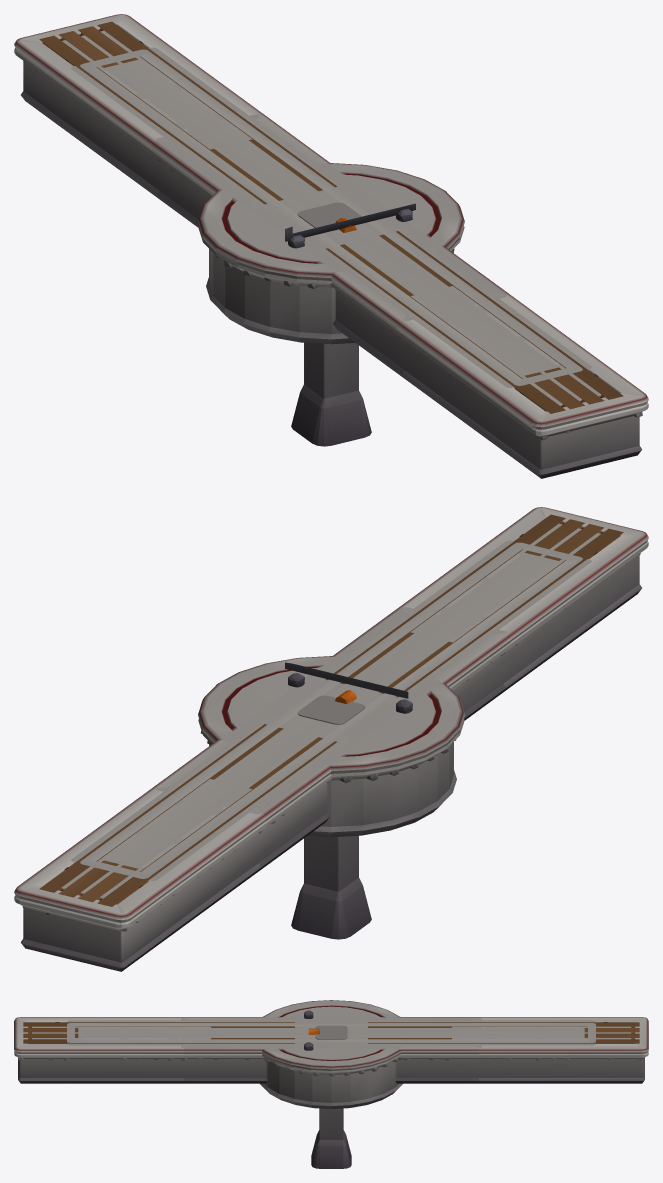
Rendered from fortress-3-DH75MOwq.glb.
3 renders of one model, top to bottom at view 1: azimuth 30°, elevation 25°; view 2: azimuth 150°, elevation 25°; view 3: azimuth 270°, elevation 25°, orthographic. The views are drawn at different scales.
Parts seen in each view (by area): view 1: block_6x2x47.400000000000006#0, block_4x2x40_grate#0, disc_12x1.5#1, block_4x2x46_plank#0, support_0_square#0, block_6x2x23#0, block_5x2x40#0, block_5x2x25#0, block_6x2x11#0, block_6x2x6#0, mount_10_wheel#0, beam_2.5x1.5x18_plank#0; view 2: block_6x2x47.400000000000006#0, block_4x2x40_grate#0, disc_12x1.5#1, block_4x2x46_plank#0, support_0_square#0, block_6x2x23#0, block_5x2x40#0, block_5x2x25#0, block_6x2x6#0, block_6x2x11#0, mount_10_wheel#0, beam_2.5x1.5x18_plank#0; view 3: block_6x2x47.400000000000006#0, disc_12x1.5#1, block_4x2x40_grate#0, block_6x2x23#0, block_4x2x46_plank#0, support_0_square#0, block_5x2x40#0, block_5x2x25#0, block_6x2x11#0, beam_2.5x1.5x18_plank#0, block_6x2x6#0, block_5x2x6#1 (+1 smaller).
Part boxes in pixels (<box>): block_6x2x47.400000000000006#0: <box>14,14,648,478</box>; block_4x2x40_grate#0: <box>80,49,582,385</box>; disc_12x1.5#1: <box>198,163,464,344</box>; block_4x2x46_plank#0: <box>39,21,623,413</box>; support_0_square#0: <box>291,202,371,446</box>; block_6x2x23#0: <box>151,114,509,378</box>; block_5x2x40#0: <box>71,47,591,388</box>; block_5x2x25#0: <box>154,108,508,326</box>; block_6x2x11#0: <box>223,163,439,329</box>; block_6x2x6#0: <box>250,183,412,251</box>; mount_10_wheel#0: <box>285,203,415,248</box>; beam_2.5x1.5x18_plank#0: <box>210,139,452,295</box>; block_6x2x47.400000000000006#0: <box>14,507,648,971</box>; block_4x2x40_grate#0: <box>80,542,582,878</box>; disc_12x1.5#1: <box>198,656,464,837</box>; block_4x2x46_plank#0: <box>39,514,623,906</box>; support_0_square#0: <box>291,695,371,939</box>; block_6x2x23#0: <box>153,607,511,871</box>; block_5x2x40#0: <box>71,540,591,881</box>; block_5x2x25#0: <box>154,601,508,819</box>; block_6x2x6#0: <box>250,676,412,744</box>; block_6x2x11#0: <box>223,656,439,822</box>; mount_10_wheel#0: <box>285,662,412,713</box>; beam_2.5x1.5x18_plank#0: <box>210,632,452,788</box>; block_6x2x47.400000000000006#0: <box>14,1017,648,1083</box>; disc_12x1.5#1: <box>260,1000,402,1108</box>; block_4x2x40_grate#0: <box>66,1023,596,1042</box>; block_6x2x23#0: <box>181,1017,481,1083</box>; block_4x2x46_plank#0: <box>23,1022,639,1043</box>; support_0_square#0: <box>311,1025,351,1168</box>; block_5x2x40#0: <box>66,1020,596,1045</box>; block_5x2x25#0: <box>167,1020,495,1045</box>; block_6x2x11#0: <box>261,1017,401,1083</box>; beam_2.5x1.5x18_plank#0: <box>211,1026,451,1039</box>; block_6x2x6#0: <box>295,1017,367,1048</box>; block_5x2x6#1: <box>295,1020,367,1045</box>.
Size of the model in its own units: 12 by 11.45 by 47.4.
